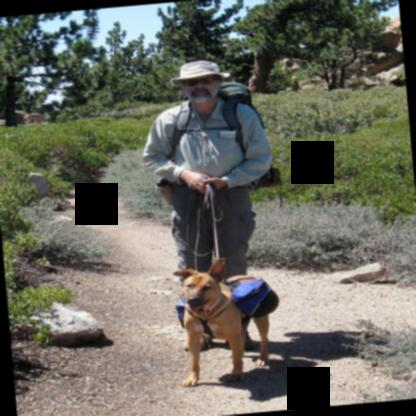backpack: (172, 82, 282, 189)
